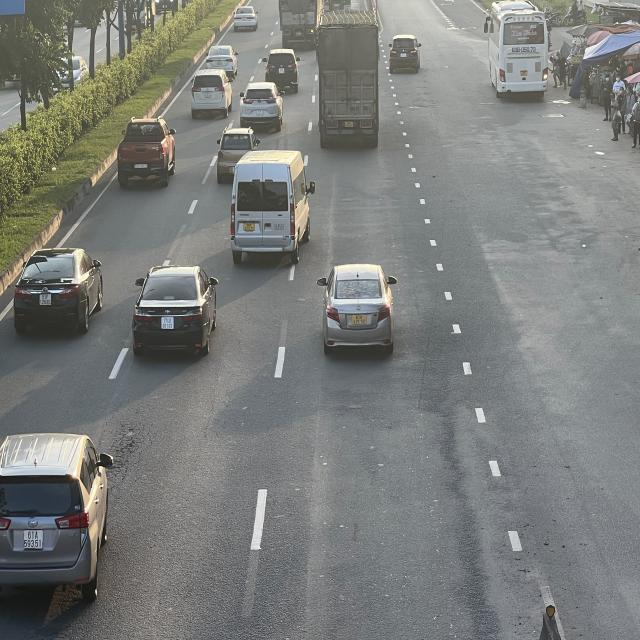car: (0, 431, 115, 603), (132, 264, 218, 358), (12, 247, 102, 335), (320, 263, 398, 356), (116, 117, 176, 185), (216, 128, 257, 182), (241, 80, 287, 128), (192, 69, 234, 118), (264, 48, 301, 93), (390, 36, 423, 75), (232, 6, 258, 33)
coach: (488, 5, 550, 100)
truck: (319, 8, 382, 148), (278, 0, 317, 45)
van: (230, 151, 315, 264)
